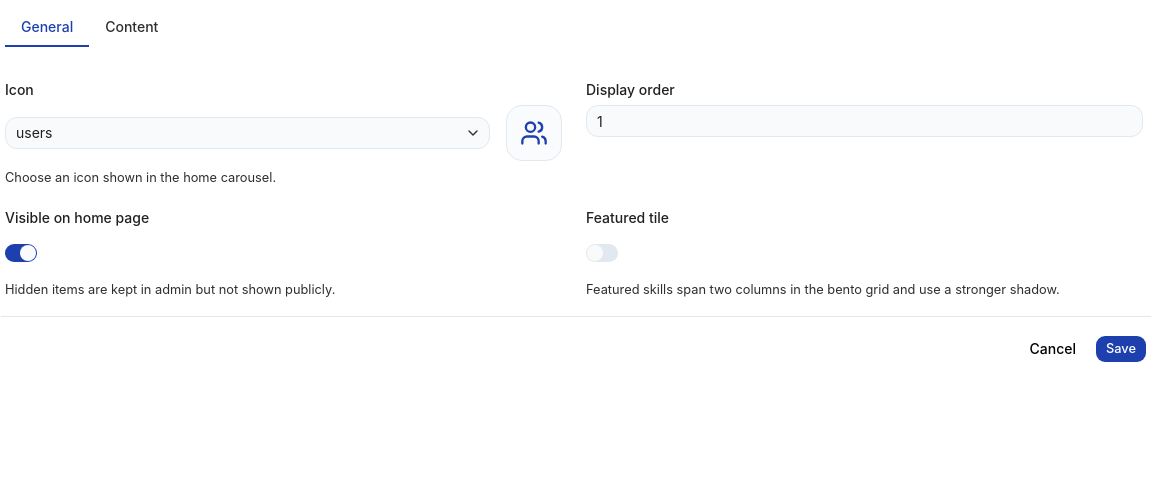
Test: SoftSkillForm › navigates to Content tab and renders AdminFormLanguageBar and translation fields
What coordinates should you click on to do the following:
click the tab "Content"
I would click on:
 (132, 27)
Its box is [89,7,174,47].
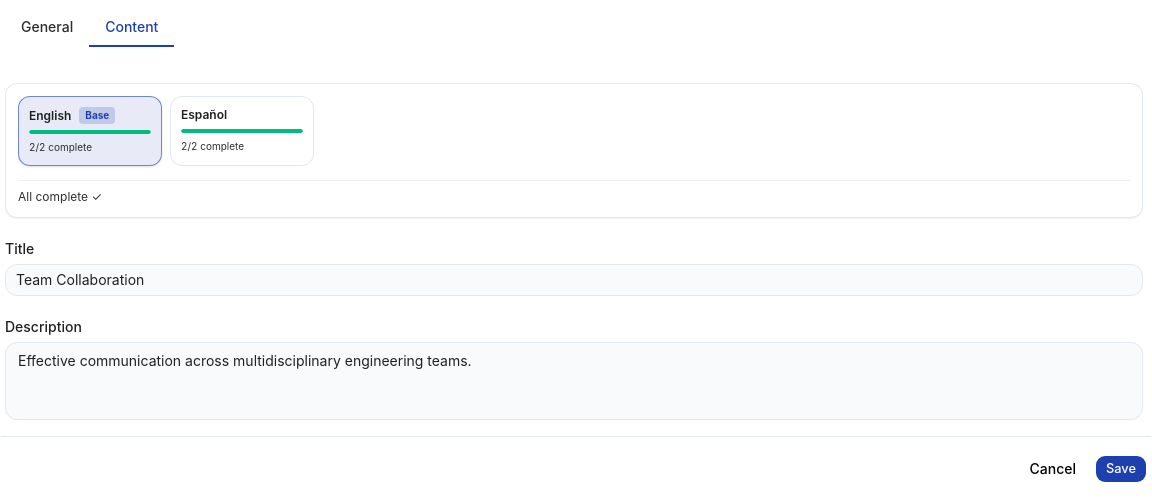
Check: the text "English" is shown, box [29,108,71,124]
Check: the text "Español" is shown, box [181,107,227,123]
Check: the field showing "Team Collaboration" is shown, box [5,264,1143,296]
